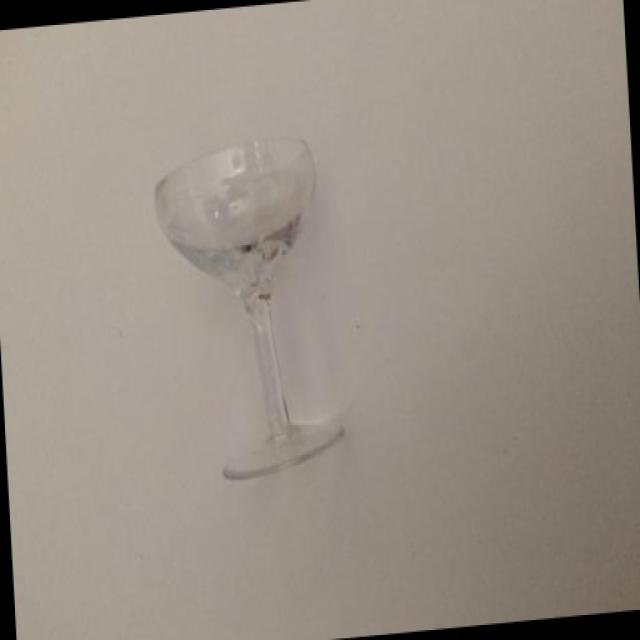vidrio: (149, 90, 369, 618)
